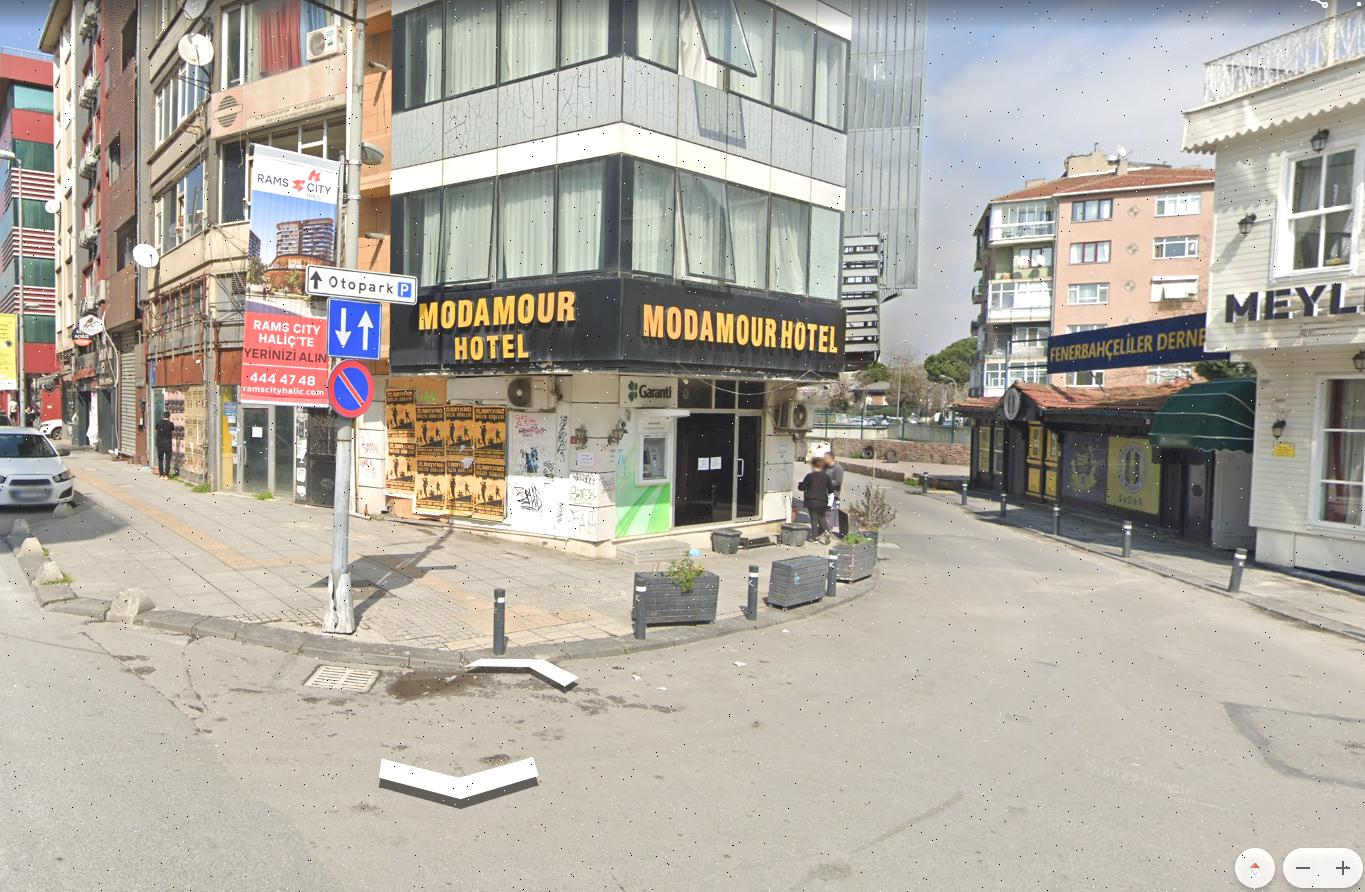nopark: (329, 359, 374, 419)
